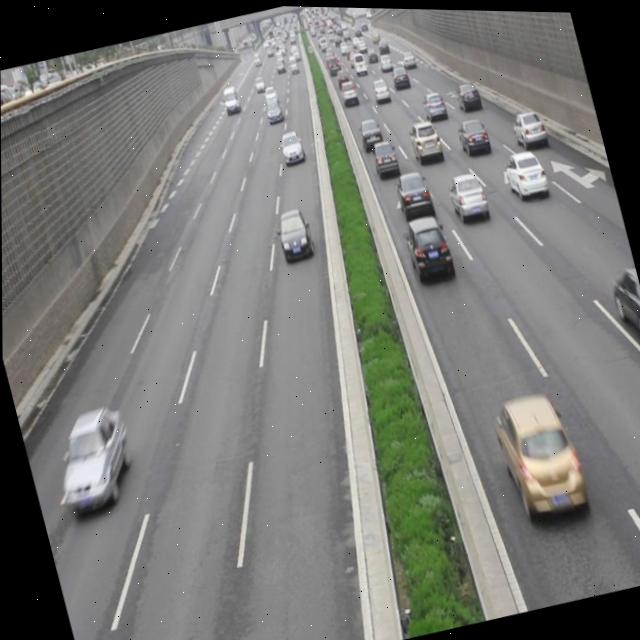car: (487, 384, 589, 526), (46, 400, 141, 517), (400, 210, 452, 279), (603, 257, 640, 350), (501, 144, 548, 202), (391, 166, 434, 223), (271, 203, 313, 261), (444, 168, 488, 222), (406, 114, 444, 164), (452, 112, 490, 157), (508, 104, 546, 147), (368, 135, 398, 175), (451, 75, 481, 113), (356, 114, 384, 151), (277, 128, 305, 165), (418, 86, 446, 119)
